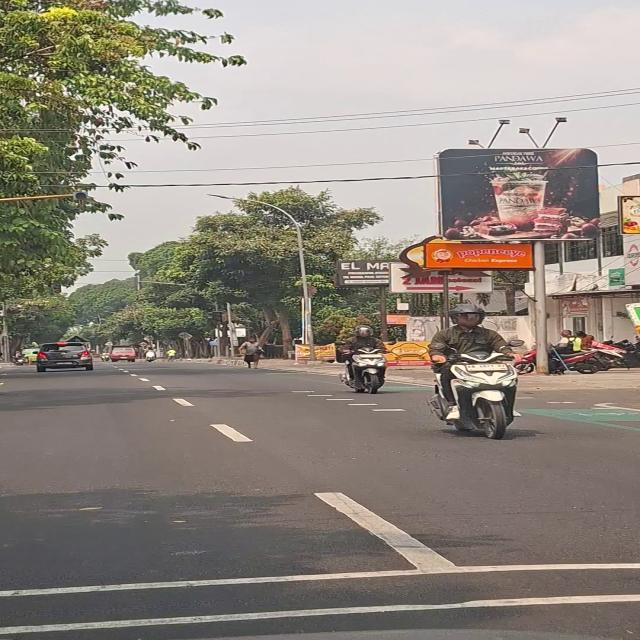WithHelmet: (427, 303, 526, 420), (335, 325, 388, 382)
